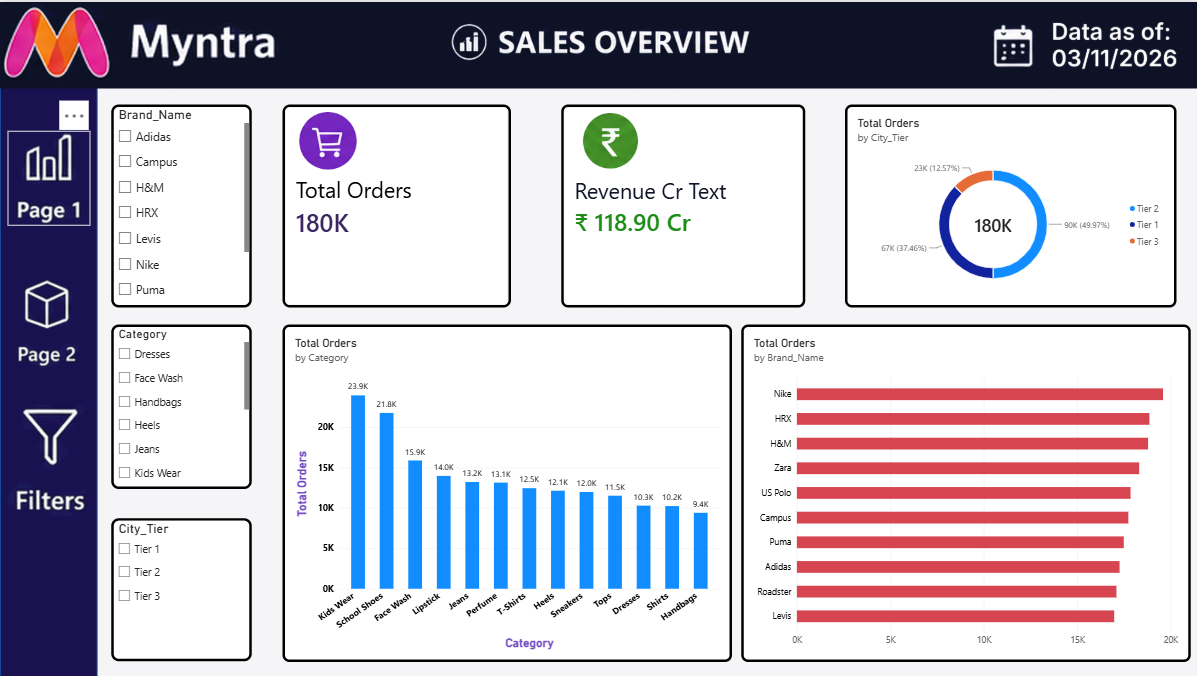

This screenshot's page, from the dashboard's own definition file:
{"tool":"powerbi","page":{"name":"Sales Overview","canvas":[1920,1080],"ordinal":0},"visuals":[{"type":"shape","box":[0,0,155.8,1080.8],"z":0},{"type":"shape","box":[0,0,1919.2,138.5],"z":1},{"type":"image","box":[0,0,451.9,130.8],"z":2},{"type":"image","box":[719.2,23.1,480.8,82.7],"z":3},{"type":"image","box":[11.5,205.8,132.7,151.9],"z":4},{"type":"image","box":[26.9,442.3,101.9,144.2],"z":5},{"type":"image","box":[11.5,640.4,128.8,186.5],"z":6},{"type":"slicer","fields":{"Values":["Orders.Brand_Name"]},"box":[178.8,163.5,225,325],"z":7},{"type":"slicer","fields":{"Values":["Orders.Category"]},"box":[178.8,515.4,225,263.5],"z":8},{"type":"slicer","fields":{"Values":["Orders.City_Tier"]},"box":[178.8,826.9,225,228.8],"z":9},{"type":"cardVisual","fields":{"Data":["Orders.Total Orders"]},"box":[451.9,163.5,365.4,325],"z":10},{"type":"image","box":[467.3,176.9,113.5,92.3],"z":11},{"type":"cardVisual","fields":{"Data":["Orders.Revenue Cr Text"]},"box":[898.1,163.5,390.4,325],"z":12},{"type":"image","box":[932.7,176.9,88.5,92.3],"z":13},{"type":"donutChart","fields":{"Category":["Orders.City_Tier"],"Y":["Orders.Total Orders"]},"box":[1351.9,163.5,530.8,325],"z":14},{"type":"clusteredColumnChart","fields":{"Category":["Orders.Category"],"Y":["Orders.Total Orders"]},"box":[451.9,515.4,719.2,540.4],"z":15},{"type":"clusteredBarChart","fields":{"Category":["Orders.Brand_Name"],"Y":["Orders.Total Orders"]},"box":[1186.5,515.4,719,540],"z":16},{"type":"image","box":[1582.7,7.7,300,130.8],"z":17}]}

Visuals, with their boxes in screenshot pixels (x1, y1, x2, y2):
shape: BBox(0, 3, 96, 668)
shape: BBox(0, 3, 1180, 88)
image: BBox(0, 3, 278, 84)
image: BBox(442, 17, 738, 68)
image: BBox(7, 130, 89, 223)
image: BBox(17, 275, 79, 364)
image: BBox(7, 397, 86, 512)
slicer - Orders.Brand_Name: BBox(110, 104, 248, 303)
slicer - Orders.Category: BBox(110, 320, 248, 482)
slicer - Orders.City_Tier: BBox(110, 512, 248, 652)
cardVisual - Orders.Total Orders: BBox(278, 104, 502, 303)
image: BBox(287, 112, 357, 169)
cardVisual - Orders.Revenue Cr Text: BBox(552, 104, 792, 303)
image: BBox(573, 112, 628, 169)
donutChart - Orders.City_Tier x Orders.Total Orders: BBox(831, 104, 1158, 303)
clusteredColumnChart - Orders.Category x Orders.Total Orders: BBox(278, 320, 720, 652)
clusteredBarChart - Orders.Brand_Name x Orders.Total Orders: BBox(729, 320, 1172, 652)
image: BBox(973, 8, 1158, 88)
